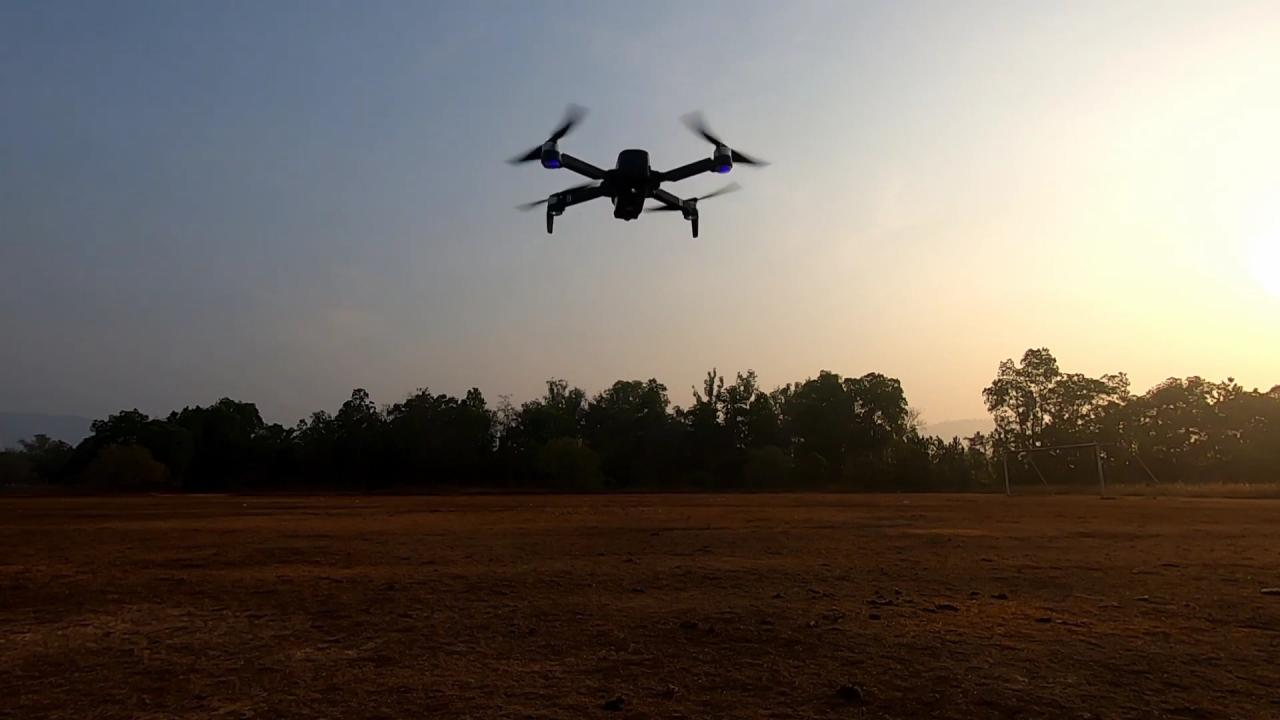Drone: (494, 90, 777, 248)
